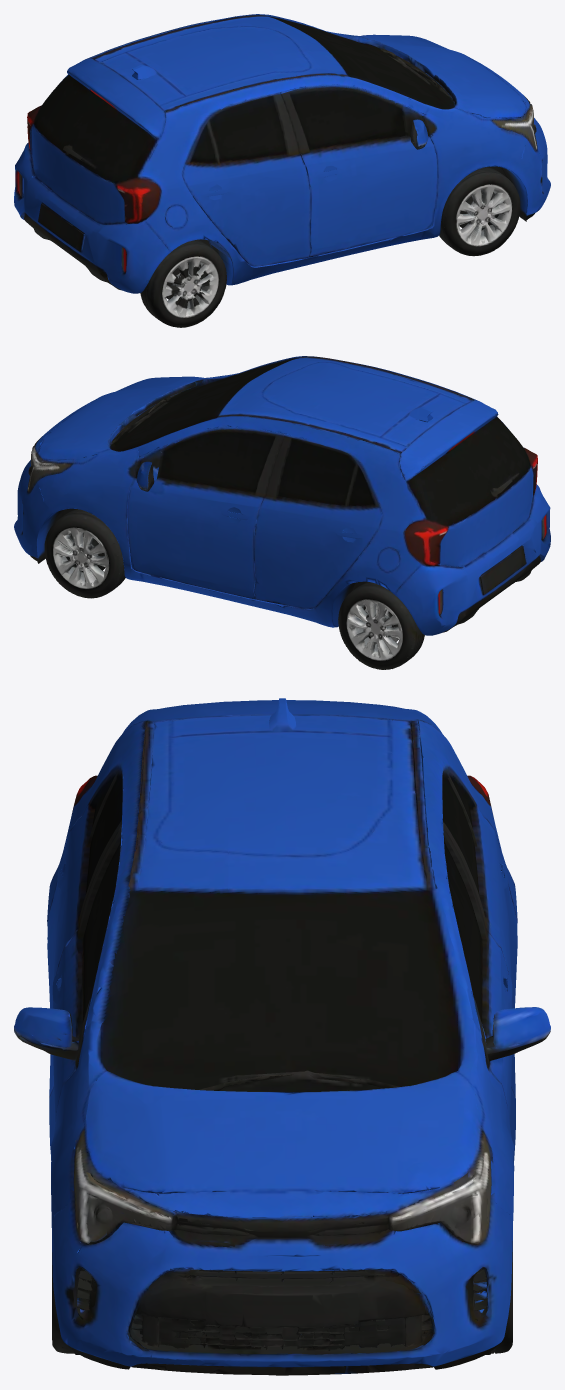
Rendered from city.glb.
The picture shows the model from 3 angles, top to bottom: view 1: azimuth 30°, elevation 25°; view 2: azimuth 150°, elevation 25°; view 3: azimuth 270°, elevation 25°; orthographic projection. The views are drawn at different scales.
Visible parts, largest first — view 1: tripo_node_1d1dd5a9-0d89-468c-a13e-ac3add55cb5b; view 2: tripo_node_1d1dd5a9-0d89-468c-a13e-ac3add55cb5b; view 3: tripo_node_1d1dd5a9-0d89-468c-a13e-ac3add55cb5b.
Part boxes in pixels (x1,y1,x2,y2): tripo_node_1d1dd5a9-0d89-468c-a13e-ac3add55cb5b: (14, 14, 550, 327); tripo_node_1d1dd5a9-0d89-468c-a13e-ac3add55cb5b: (14, 356, 550, 669); tripo_node_1d1dd5a9-0d89-468c-a13e-ac3add55cb5b: (14, 698, 550, 1375).
Bounding box in the file's own units: 0.9802 × 0.4379 × 0.5427.
Materials: 1 (1 with a texture image).
